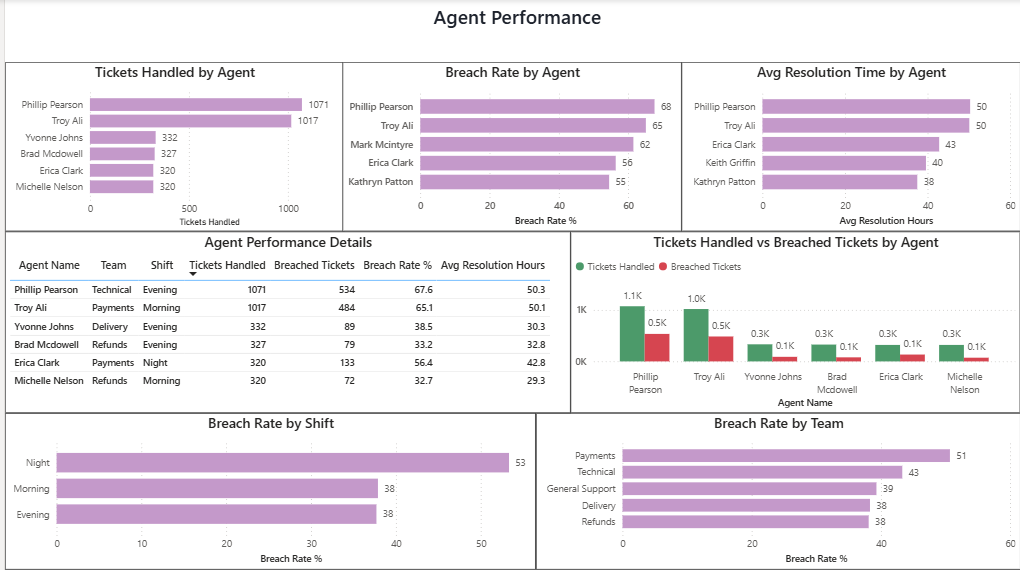

This screenshot's page, from the dashboard's own definition file:
{"tool":"powerbi","page":{"name":"Agent Performance","canvas":[1280,720],"ordinal":2},"visuals":[{"type":"textbox","box":[11.3,0,1268,79.4],"z":0},{"type":"clusteredBarChart","title":"Tickets Handled by Agent","fields":{"Y":["Sum(Agent Performance.tickets_handled)"],"Category":["Agent Performance.agent_name"]},"box":[0,79.4,427.1,213],"z":1000},{"type":"barChart","title":"Breach Rate by Agent","fields":{"Category":["Agent Performance.agent_name"],"Y":["Avg(Agent Performance.breach_rate_pct)"]},"box":[425.2,79.4,427.1,213.5],"z":2000},{"type":"barChart","title":"Avg Resolution Time by Agent","fields":{"Category":["Agent Performance.agent_name"],"Y":["Avg(Agent Performance.avg_resolution_hours)"]},"box":[852.3,79.4,427.1,213.5],"z":3000},{"type":"clusteredColumnChart","title":"Tickets Handled vs Breached Tickets by Agent","fields":{"Y":["Sum(Agent Performance.tickets_handled)","Sum(Agent Performance.breached_tickets)"],"Category":["Agent Performance.agent_name"]},"box":[712.4,292.9,566.9,228.7],"z":4000},{"type":"barChart","title":"Breach Rate by Team","fields":{"Category":["Agent Performance.team"],"Y":["Avg(Agent Performance.breach_rate_pct)"]},"box":[669,521.6,610.4,197],"z":5000},{"type":"barChart","title":"Breach Rate by Shift","fields":{"Category":["Agent Performance.shift"],"Y":["Avg(Agent Performance.breach_rate_pct)"]},"box":[0,521.6,669,197],"z":6000},{"type":"tableEx","title":"Agent Performance Details","fields":{"Values":["Agent Performance.agent_name","Agent Performance.team","Agent Performance.shift","Sum(Agent Performance.tickets_handled)","Sum(Agent Performance.breached_tickets)","Avg(Agent Performance.breach_rate_pct)","Avg(Agent Performance.avg_resolution_hours)"]},"box":[0,292.9,712.4,228.7],"z":7000}]}

Visuals, with their boxes in screenshot pixels (x1, y1, x2, y2), scaled from the page's 1280x720 canvas onto the 1020x570 screenshot:
textbox: 9, 0, 1019, 63
"Tickets Handled by Agent" clusteredBarChart: 0, 63, 340, 231
"Breach Rate by Agent" barChart: 339, 63, 679, 232
"Avg Resolution Time by Agent" barChart: 679, 63, 1019, 232
"Tickets Handled vs Breached Tickets by Agent" clusteredColumnChart: 568, 232, 1019, 413
"Breach Rate by Team" barChart: 533, 413, 1019, 569
"Breach Rate by Shift" barChart: 0, 413, 533, 569
"Agent Performance Details" tableEx: 0, 232, 568, 413
